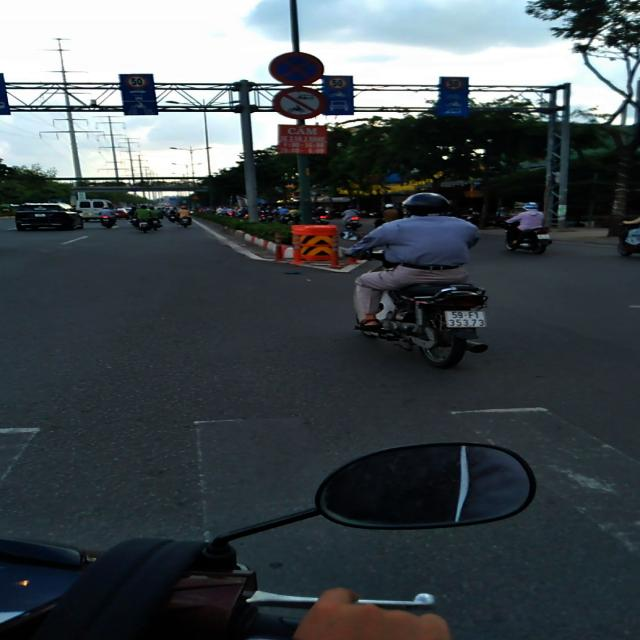Cam con lai: (269, 88, 329, 120)
Cam dung va do: (268, 51, 325, 86)
Toc do toi da: (125, 75, 148, 88), (327, 77, 348, 89), (443, 78, 464, 90)
